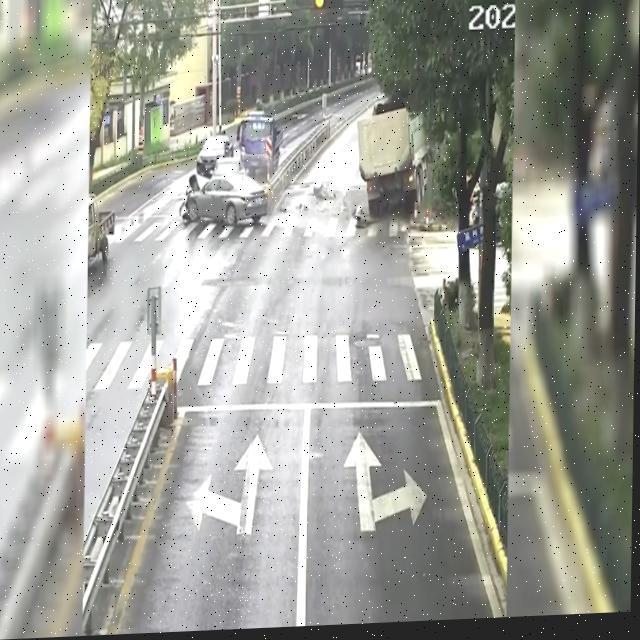multiple_accident: (169, 136, 445, 247)
